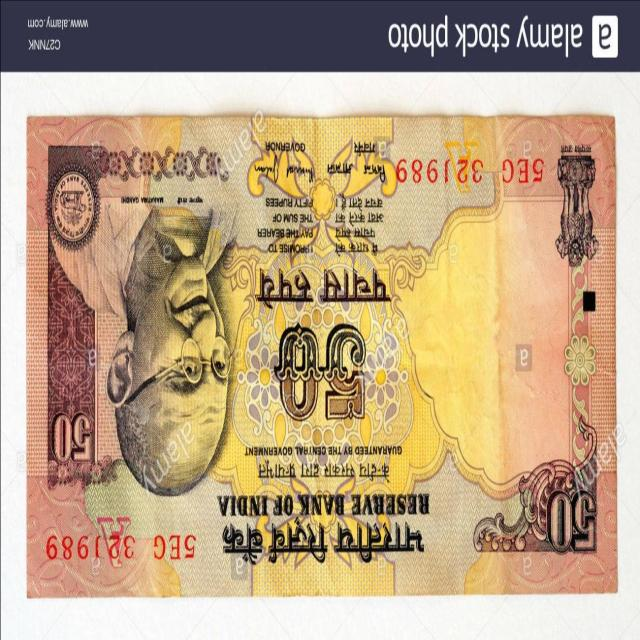50IndianRupees: (29, 116, 616, 596)
